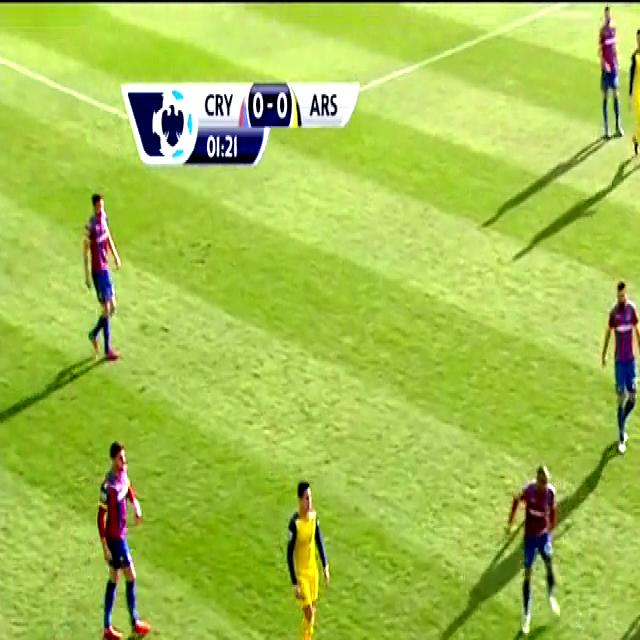soccer-player: (90, 428, 158, 640), (499, 446, 569, 640), (78, 183, 131, 379), (277, 464, 335, 640), (595, 267, 640, 457), (594, 0, 624, 146), (627, 26, 640, 172), (585, 636, 640, 640)
